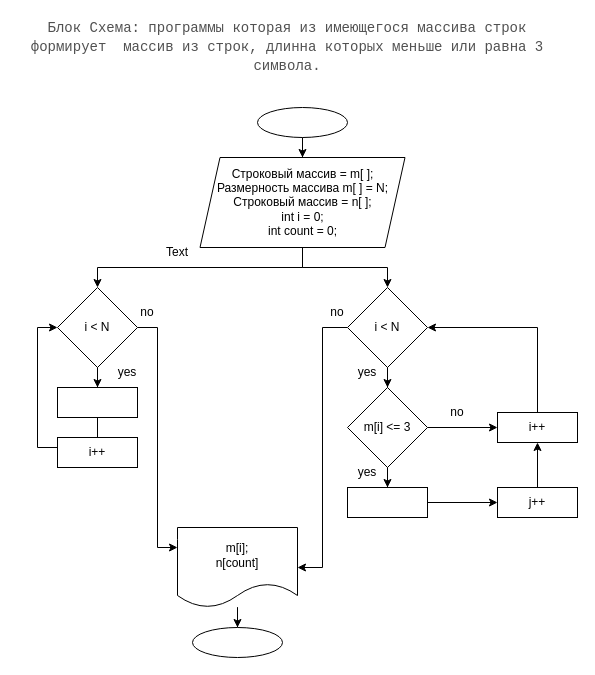
Image size: 595x675. Some labels were removed from this diagram. Here are the shapes that lost their labels. From the top down, the box of each, then its label:
(256, 106, 348, 138): Start
(56, 386, 138, 418): m[i] = m[i+1]
(346, 486, 428, 518): m[i] = n[count]
(192, 626, 282, 658): End
